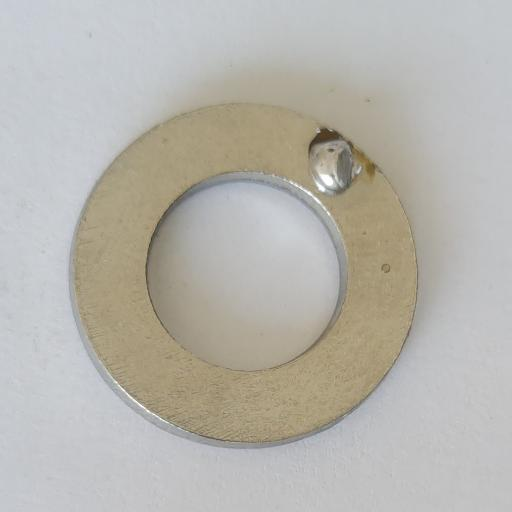excess_material: (309, 140, 362, 197)
